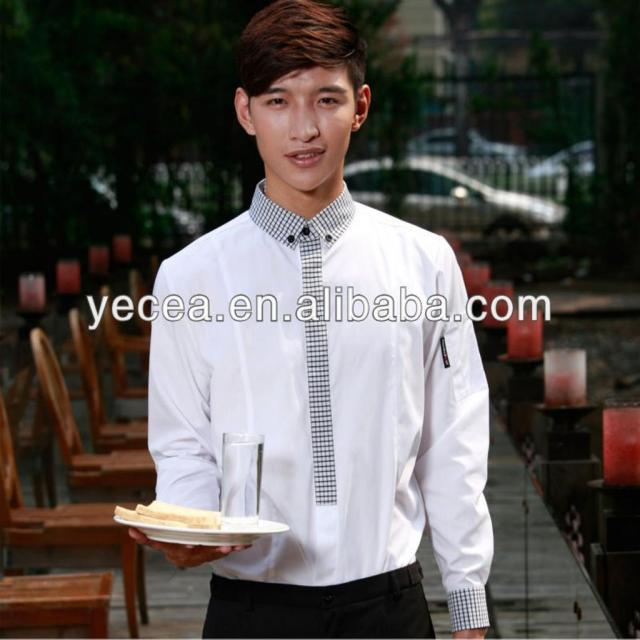Face: (246, 65, 367, 180)
